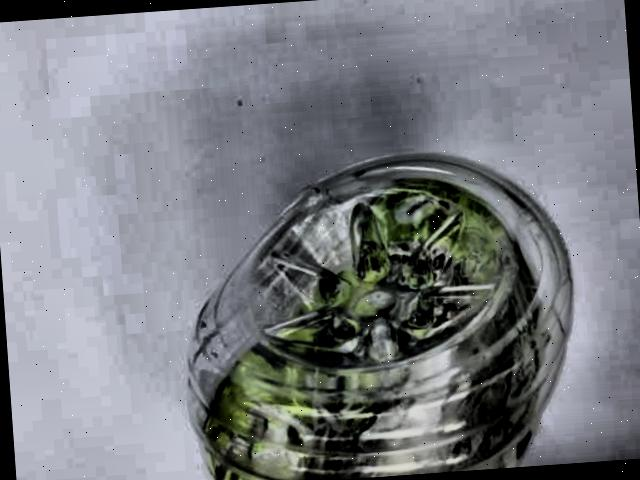Bottles: (168, 139, 593, 480)
